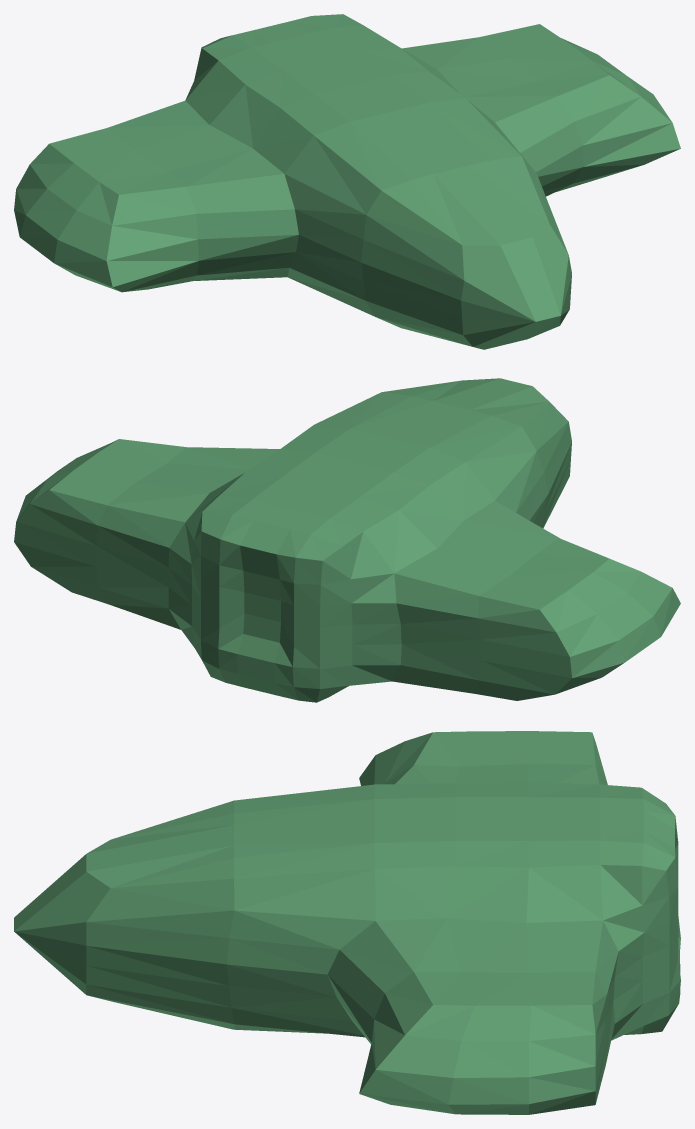
Rendered from Player.obj.
3 views of the same model, one above another, from view 1: azimuth 30°, elevation 25°; view 2: azimuth 150°, elevation 25°; view 3: azimuth 270°, elevation 25° (orthographic). The views are drawn at different scales.
Visible parts, largest first — view 1: 立方体; view 2: 立方体; view 3: 立方体.
Part boxes in pixels (left/top/right/bottom): 立方体: left=14, top=14, right=680, bottom=349; 立方体: left=14, top=378, right=680, bottom=702; 立方体: left=14, top=731, right=680, bottom=1114.
Size of the model in its own units: 6.21 by 1.6 by 5.18.
